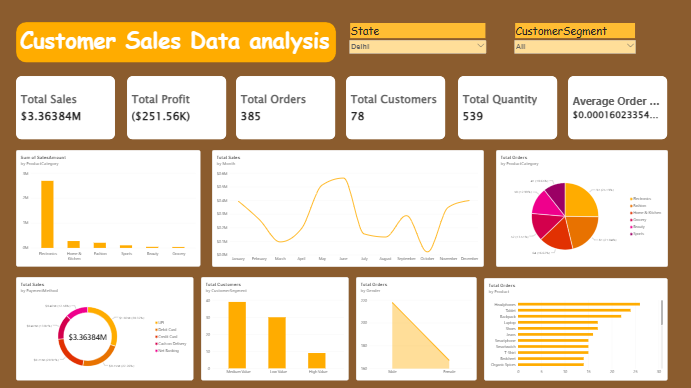

The dashboard page shown, as its layout file describes it:
{"tool":"powerbi","page":{"name":"Overview","canvas":[2560,1440],"ordinal":0},"visuals":[{"type":"cardVisual","fields":{"Data":["customer_analysis_orders_5000 (1).Total Sales"]},"box":[60,280,367.6,235.3],"z":0},{"type":"cardVisual","fields":{"Data":["customer_analysis_orders_5000 (1).Total Profit"]},"box":[470,280,368,235],"z":1000},{"type":"cardVisual","fields":{"Data":["customer_analysis_orders_5000 (1).Total Orders"]},"box":[875,280,368,235],"z":2000},{"type":"cardVisual","fields":{"Data":["customer_analysis_orders_5000 (1).Total Customers"]},"box":[1280,280,368,235],"z":3000},{"type":"cardVisual","fields":{"Data":["customer_analysis_orders_5000 (1).Total Quantity"]},"box":[1695,280,368,235],"z":4000},{"type":"cardVisual","fields":{"Data":["customer_analysis_orders_5000 (1).Average Order Value"]},"box":[2105,280,368,235],"z":5000},{"type":"clusteredColumnChart","fields":{"Category":["customer_analysis_orders_5000 (1).ProductCategory"],"Y":["Sum(customer_analysis_orders_5000 (1).SalesAmount)"]},"box":[60,556.7,683.3,431.7],"z":6000},{"type":"lineChart","fields":{"Category":["customer_analysis_customers_1000 (1).SignupDate.Variation.Date Hierarchy.Month"],"Y":["customer_analysis_orders_5000 (1).Total Sales"]},"box":[786.7,556.7,1006.7,433.3],"z":7000},{"type":"pieChart","fields":{"Category":["customer_analysis_orders_5000 (1).ProductCategory"],"Y":["customer_analysis_orders_5000 (1).Total Orders"]},"box":[1836.7,556.7,636.7,433.3],"z":8000},{"type":"clusteredBarChart","fields":{"Category":["customer_analysis_orders_5000 (1).Product"],"Y":["customer_analysis_orders_5000 (1).Total Orders"]},"box":[1793.3,1030,680,380],"z":9000},{"type":"donutChart","fields":{"Category":["customer_analysis_orders_5000 (1).PaymentMethod"],"Y":["customer_analysis_orders_5000 (1).Total Sales"]},"box":[60,1026.7,656.7,383.3],"z":10000},{"type":"columnChart","fields":{"Category":["customer_analysis_customers_1000 (1).CustomerSegment"],"Y":["customer_analysis_orders_5000 (1).Total Customers"]},"box":[743.3,1026.7,546.7,383.3],"z":11000},{"type":"areaChart","fields":{"Category":["customer_analysis_customers_1000 (1).Gender"],"Y":["customer_analysis_orders_5000 (1).Total Orders"]},"box":[1320,1026.7,446.7,383.3],"z":13000},{"type":"slicer","fields":{"Values":["customer_analysis_customers_1000 (1).State"]},"box":[1290,86.7,516.7,143.3],"z":14000},{"type":"slicer","fields":{"Values":["customer_analysis_customers_1000 (1).CustomerSegment"]},"box":[1900,86.7,460,173.3],"z":15000},{"type":"shape","box":[59.5,81,1185.7,150],"z":15001},{"type":"textbox","box":[75.8,87.9,1169.7,139.4],"z":15002}]}

Visuals, with their boxes in screenshot pixels (x1, y1, x2, y2), scaled from the page's 2560x1440 canvas onto the 691x388 screenshot:
cardVisual - customer_analysis_orders_5000 (1).Total Sales: [x1=16, y1=75, x2=115, y2=139]
cardVisual - customer_analysis_orders_5000 (1).Total Profit: [x1=127, y1=75, x2=226, y2=139]
cardVisual - customer_analysis_orders_5000 (1).Total Orders: [x1=236, y1=75, x2=336, y2=139]
cardVisual - customer_analysis_orders_5000 (1).Total Customers: [x1=346, y1=75, x2=445, y2=139]
cardVisual - customer_analysis_orders_5000 (1).Total Quantity: [x1=458, y1=75, x2=557, y2=139]
cardVisual - customer_analysis_orders_5000 (1).Average Order Value: [x1=568, y1=75, x2=668, y2=139]
clusteredColumnChart - customer_analysis_orders_5000 (1).ProductCategory x Sum(customer_analysis_orders_5000 (1).SalesAmount): [x1=16, y1=150, x2=201, y2=266]
lineChart - customer_analysis_customers_1000 (1).SignupDate.Variation.Date Hierarchy.Month x customer_analysis_orders_5000 (1).Total Sales: [x1=212, y1=150, x2=484, y2=267]
pieChart - customer_analysis_orders_5000 (1).ProductCategory x customer_analysis_orders_5000 (1).Total Orders: [x1=496, y1=150, x2=668, y2=267]
clusteredBarChart - customer_analysis_orders_5000 (1).Product x customer_analysis_orders_5000 (1).Total Orders: [x1=484, y1=278, x2=668, y2=380]
donutChart - customer_analysis_orders_5000 (1).PaymentMethod x customer_analysis_orders_5000 (1).Total Sales: [x1=16, y1=277, x2=193, y2=380]
columnChart - customer_analysis_customers_1000 (1).CustomerSegment x customer_analysis_orders_5000 (1).Total Customers: [x1=201, y1=277, x2=348, y2=380]
areaChart - customer_analysis_customers_1000 (1).Gender x customer_analysis_orders_5000 (1).Total Orders: [x1=356, y1=277, x2=477, y2=380]
slicer - customer_analysis_customers_1000 (1).State: [x1=348, y1=23, x2=488, y2=62]
slicer - customer_analysis_customers_1000 (1).CustomerSegment: [x1=513, y1=23, x2=637, y2=70]
shape: [x1=16, y1=22, x2=336, y2=62]
textbox: [x1=20, y1=24, x2=336, y2=61]
